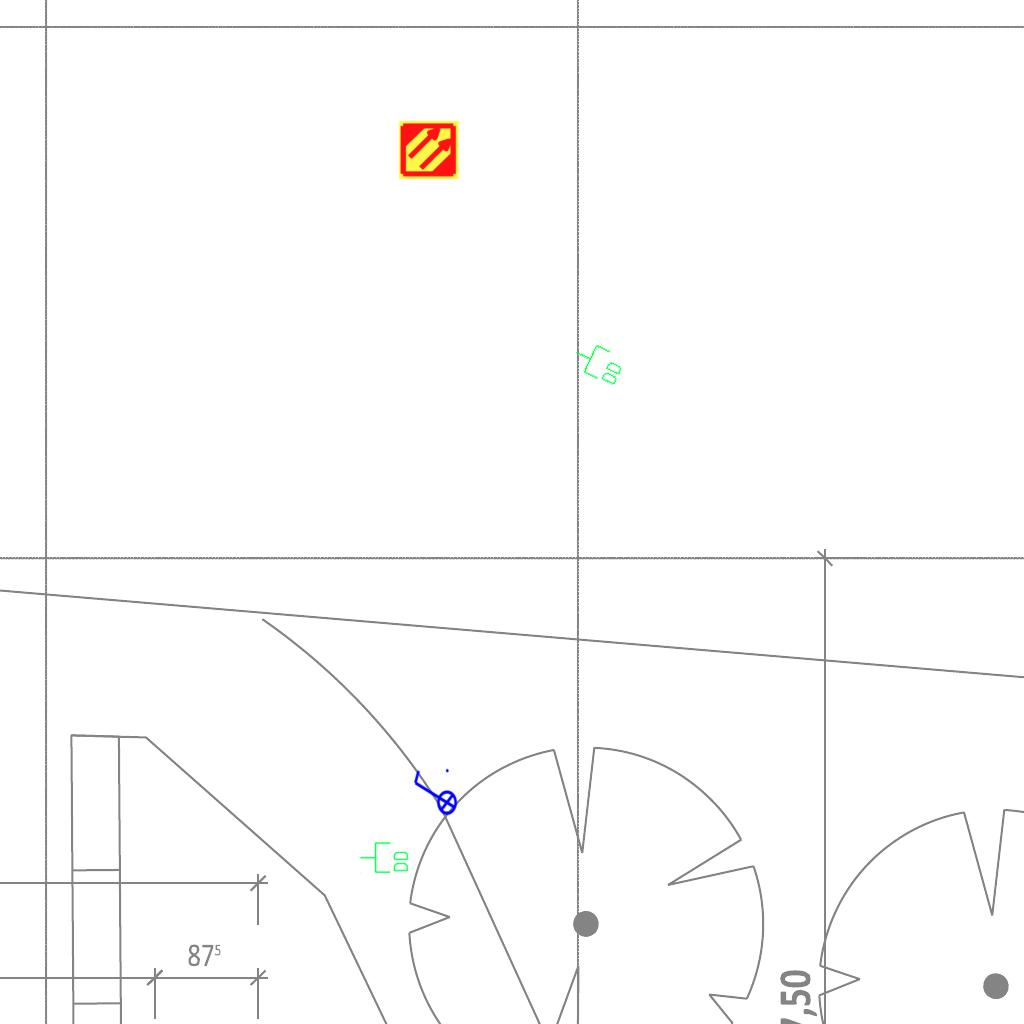ASR_Ansaugrauchmelder: (398, 119, 460, 181)
Ausschalter_beleuchtet: (410, 766, 458, 822)
Datenanschluss_zweifach: (568, 336, 629, 390), (359, 841, 410, 875)
